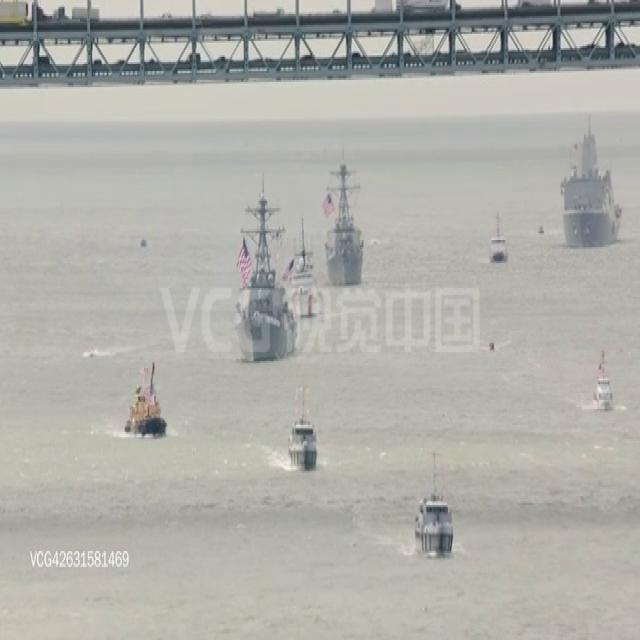houseboat: (119, 362, 168, 444), (416, 449, 452, 556), (288, 227, 320, 313), (288, 385, 320, 469), (592, 342, 612, 410), (488, 209, 510, 265), (87, 343, 95, 362), (139, 236, 148, 248), (489, 342, 497, 351), (538, 226, 544, 234)
navalvessels: (227, 177, 293, 362), (558, 120, 620, 253), (323, 144, 366, 286)
